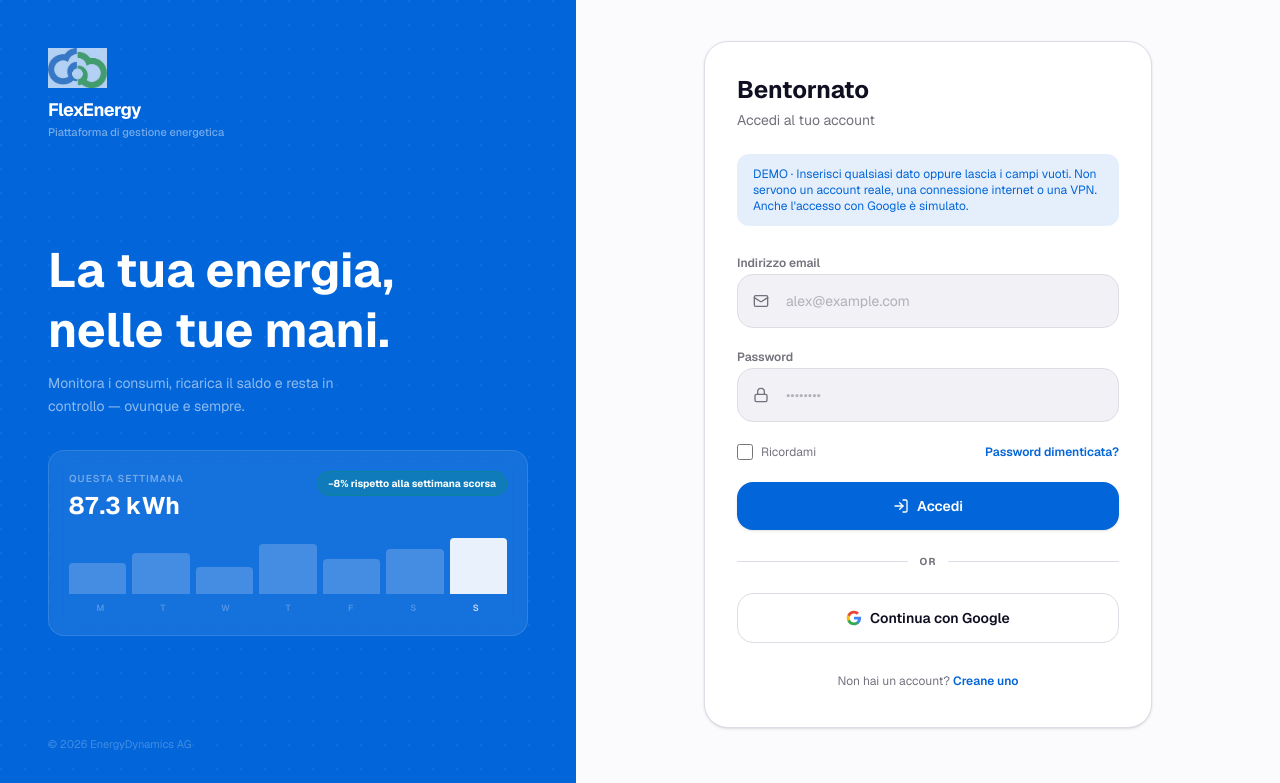
demo routes without a data connection › renders /settings with local data
This screenshot has width=1280, height=783.
Click the button "Accedi" at (928,506), box [737,482,1119,530]
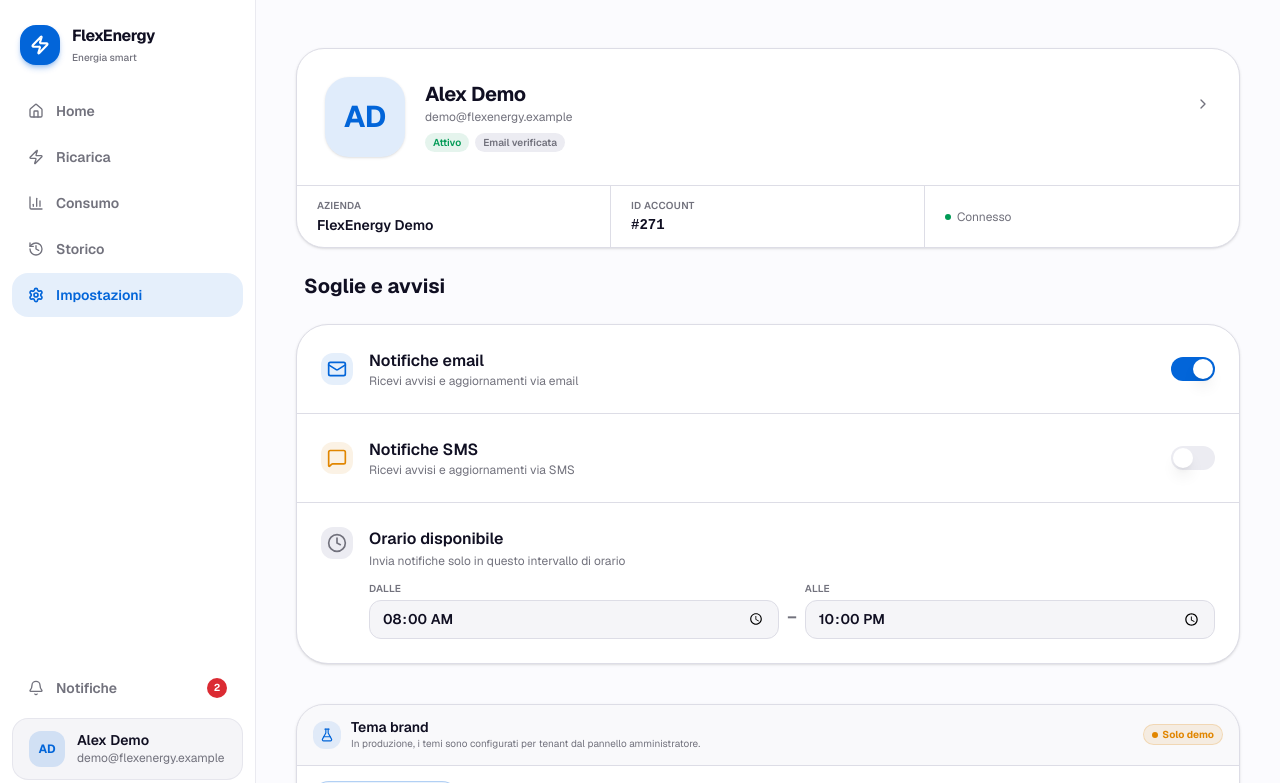
expect the button "Home" is shown: met, box [12,89,243,133]
expect the heading "Alex Demo" is shown: met, box [425,81,526,107]
